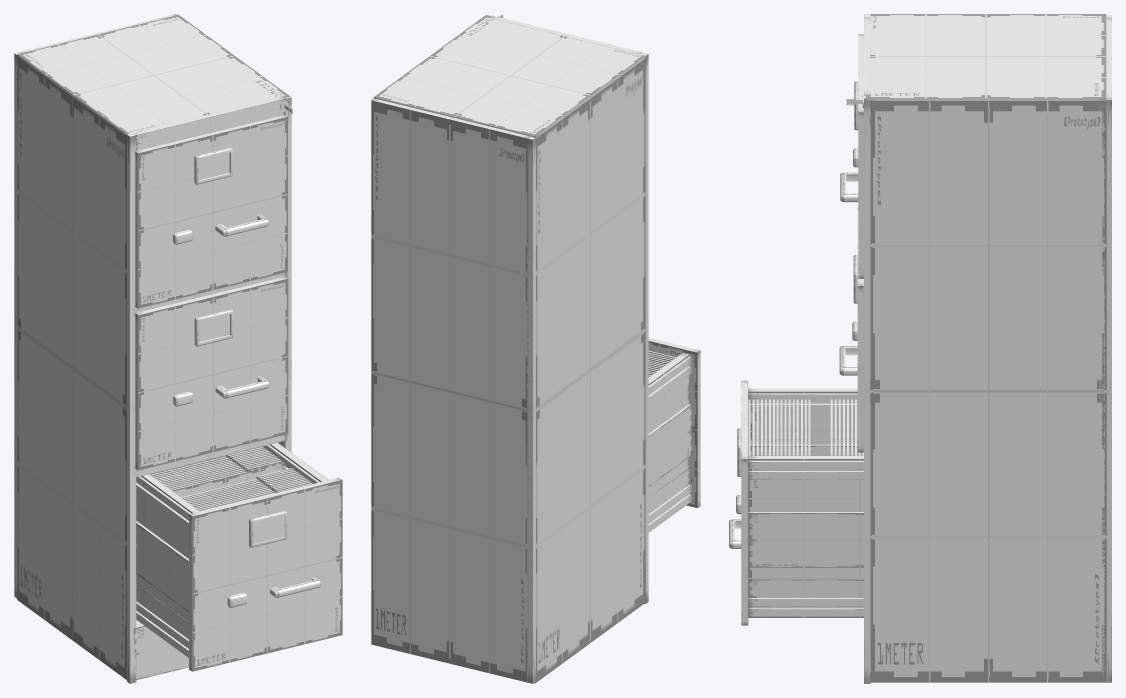
The model's file is Filing cabinet OBJ silver.fbx.
The picture shows the model from 3 angles, left to right: view 1: azimuth 30°, elevation 25°; view 2: azimuth 150°, elevation 25°; view 3: azimuth 270°, elevation 25°; orthographic projection. The views are drawn at different scales.
Parts seen in each view (by area): view 1: Filing_cabinet_OBJ_1; view 2: Filing_cabinet_OBJ_1; view 3: Filing_cabinet_OBJ_1.
Part boxes in pixels (x1=…): Filing_cabinet_OBJ_1: x1=14, y1=14, x2=342, y2=683; Filing_cabinet_OBJ_1: x1=371, y1=14, x2=700, y2=683; Filing_cabinet_OBJ_1: x1=729, y1=14, x2=1111, y2=683.
Size of the model in its own units: 64.58 by 209 by 123.
Materials: 1 (1 with a texture image).
